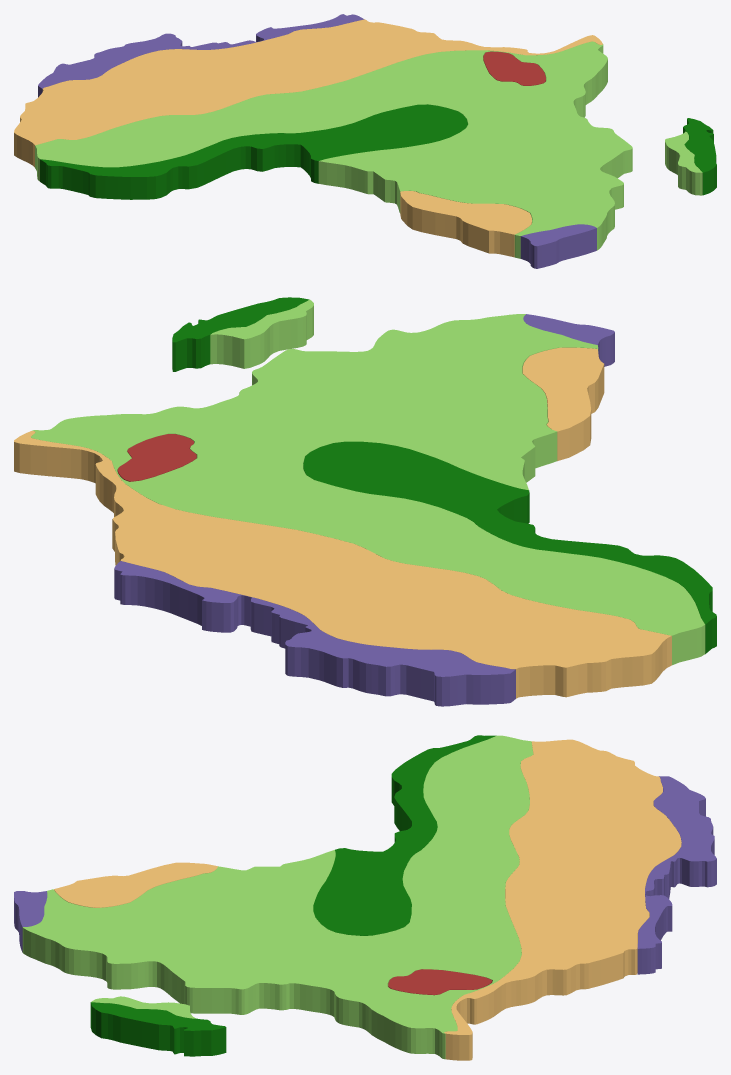
File: AfricaWeather.glb
3 views of the same model, one above another, from view 1: azimuth 30°, elevation 25°; view 2: azimuth 150°, elevation 25°; view 3: azimuth 270°, elevation 25° (orthographic). The views are drawn at different scales.
Parts seen in each view (by area): view 1: 热带草原气候, 热带沙漠气候, 热带雨林气候, 地中海气候, 高原山地气候; view 2: 热带草原气候, 热带沙漠气候, 地中海气候, 热带雨林气候, 高原山地气候; view 3: 热带草原气候, 热带沙漠气候, 热带雨林气候, 地中海气候, 高原山地气候.
Boxes of the visible parts, x1,y1,x2,y2 form: 热带草原气候: (35, 41, 702, 258); 热带沙漠气候: (14, 19, 602, 257); 热带雨林气候: (40, 104, 716, 199); 地中海气候: (38, 14, 596, 268); 高原山地气候: (483, 51, 545, 85); 热带草原气候: (31, 299, 705, 665); 热带沙漠气候: (14, 347, 671, 698); 地中海气候: (114, 314, 614, 706); 热带雨林气候: (172, 297, 716, 653); 高原山地气候: (117, 434, 196, 481); 热带草原气候: (22, 735, 533, 1059); 热带沙漠气候: (54, 739, 681, 1060); 热带雨林气候: (90, 735, 496, 1056); 地中海气候: (14, 776, 716, 974); 高原山地气候: (388, 969, 492, 995).
Size of the model in its own units: 4.02 by 0.164 by 3.98.
